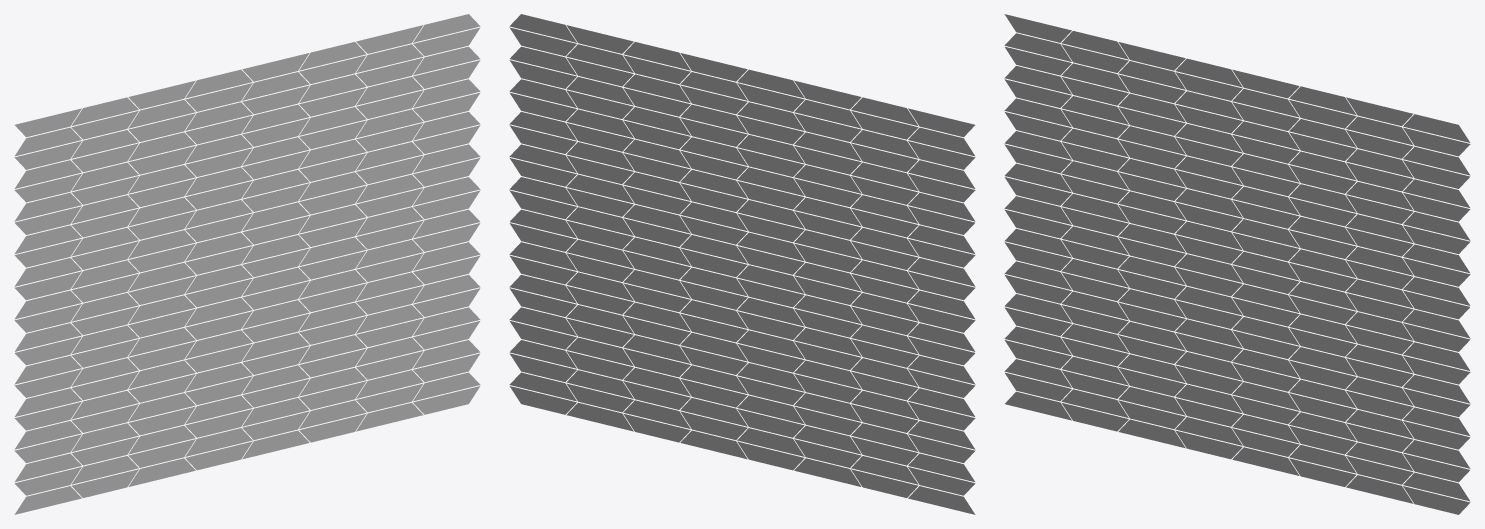
Rendered from trapezoid.gltf.
The picture shows the model from 3 angles, left to right: view 1: azimuth 30°, elevation 25°; view 2: azimuth 150°, elevation 25°; view 3: azimuth 330°, elevation 25°; orthographic projection.
Visible parts, largest first — view 1: trapezoid; view 2: trapezoid; view 3: trapezoid.
Boxes of the visible parts, <box> form: trapezoid: <box>14,14,480,514</box>; trapezoid: <box>509,14,975,514</box>; trapezoid: <box>1004,14,1470,514</box>.
Bounding box in the file's own units: 808 × 646 × 0.
Materials: 192 (192 with a texture image).
